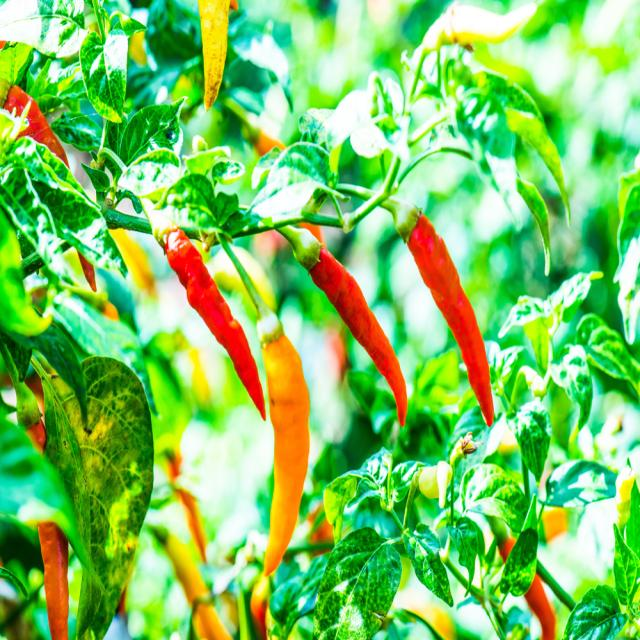Half-Ripe: (263, 335, 309, 576)
Ripe: (164, 230, 264, 418), (407, 215, 493, 423), (309, 246, 406, 424), (4, 85, 68, 167), (38, 521, 68, 639)
